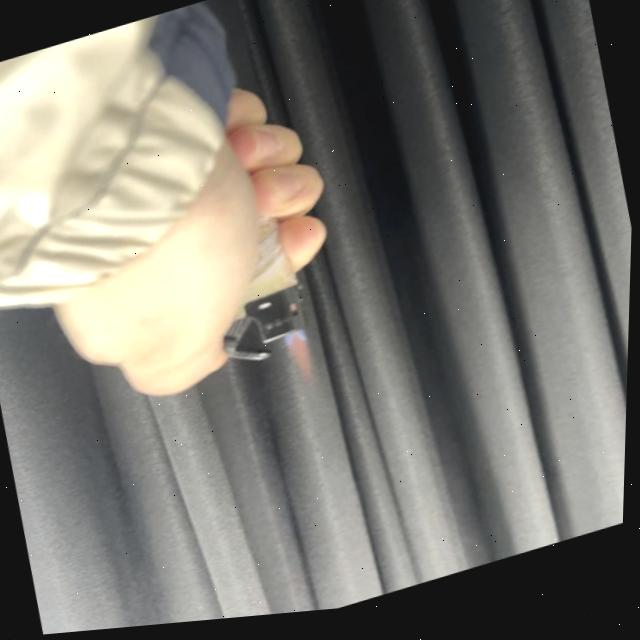Fire: (280, 330, 324, 406)
